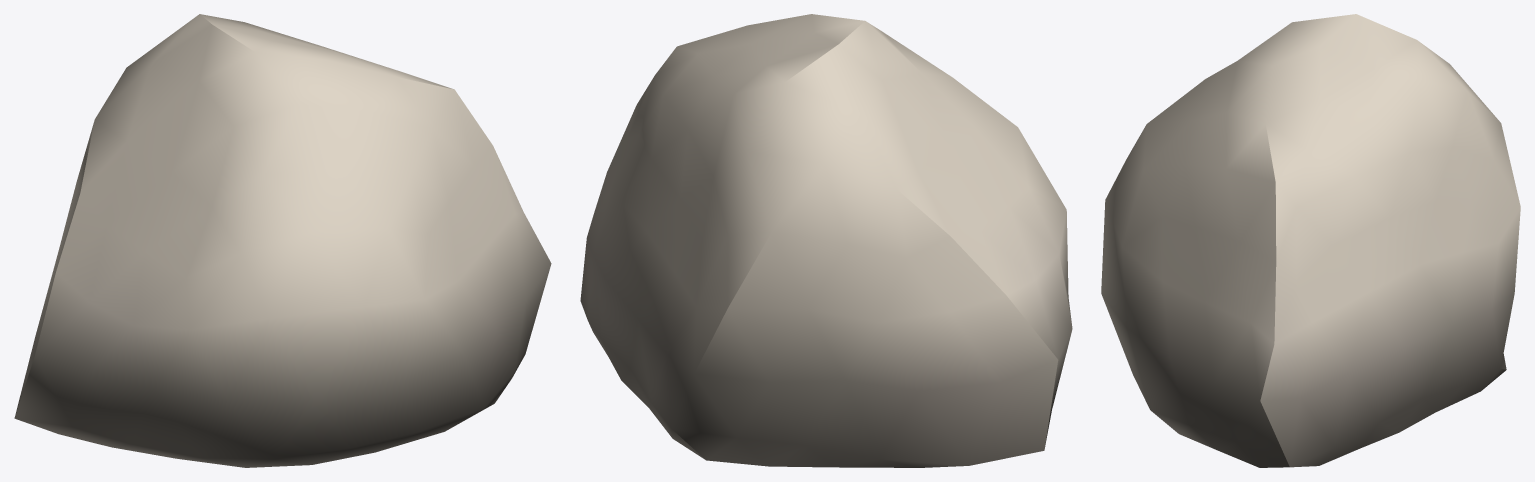
The model's file is SM_VK_Rock_Boulder_B.fbx.
3 renders of one model, left to right at view 1: azimuth 30°, elevation 25°; view 2: azimuth 150°, elevation 25°; view 3: azimuth 270°, elevation 25°, orthographic. The views are drawn at different scales.
Visible parts, largest first — view 1: SM_VK_Rock_Boulder_B.001; view 2: SM_VK_Rock_Boulder_B.001; view 3: SM_VK_Rock_Boulder_B.001.
Part boxes in pixels (<box>): SM_VK_Rock_Boulder_B.001: <box>14,14,551,467</box>; SM_VK_Rock_Boulder_B.001: <box>580,14,1072,467</box>; SM_VK_Rock_Boulder_B.001: <box>1101,14,1520,467</box>.
Bounding box in the file's own units: 2.7 × 1.93 × 2.15.
